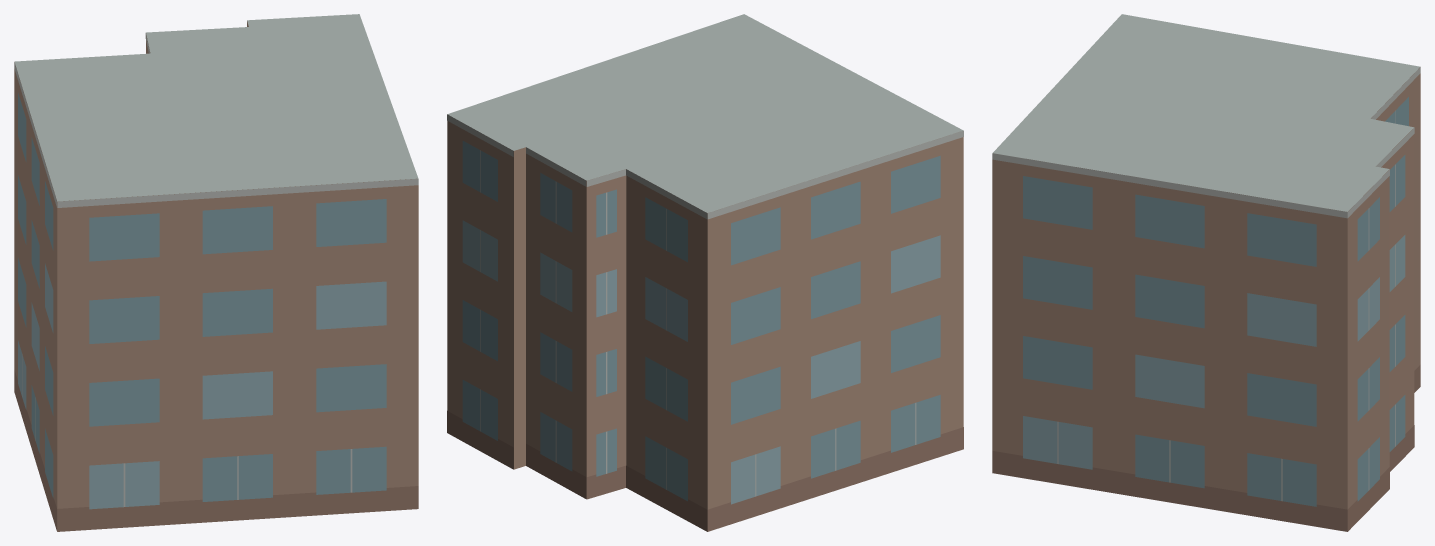
Rendered from survey-upis-32779404.glb.
3 renders of one model, left to right at view 1: azimuth 30°, elevation 25°; view 2: azimuth 150°, elevation 25°; view 3: azimuth 270°, elevation 25°, orthographic. The views are drawn at different scales.
Visible parts, largest first — view 1: survey-upis-32779404.tmp; view 2: survey-upis-32779404.tmp; view 3: survey-upis-32779404.tmp.
Boxes of the visible parts, x1,y1,x2,y2 form: survey-upis-32779404.tmp: [14, 14, 418, 531]; survey-upis-32779404.tmp: [447, 14, 963, 531]; survey-upis-32779404.tmp: [992, 14, 1420, 531].
Size of the model in its own units: 16.2 by 12.2 by 14.8.
